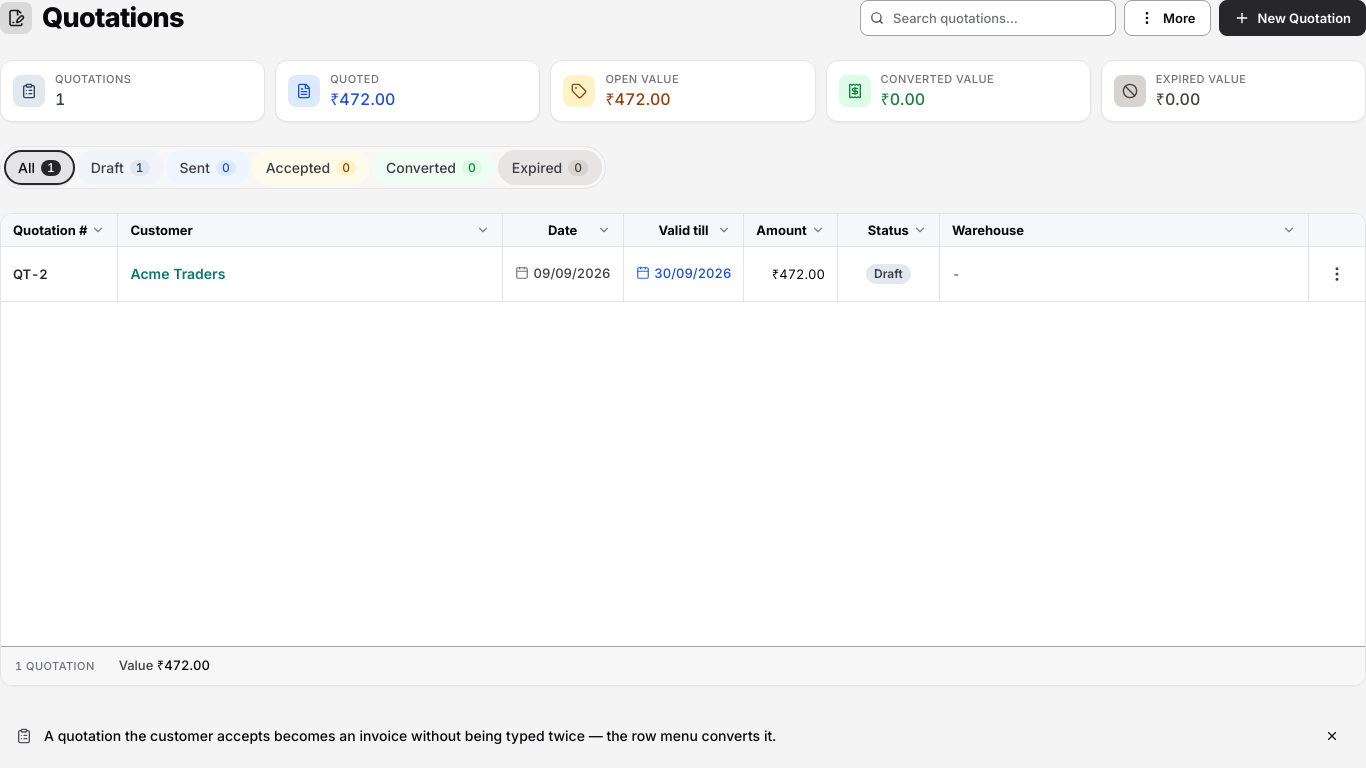
Test: printing a quotation › puts the quotation on paper with the date its prices hold to
Click the button named "Quotation actions" at (1337, 274), box 1321,256 -> 1353,292
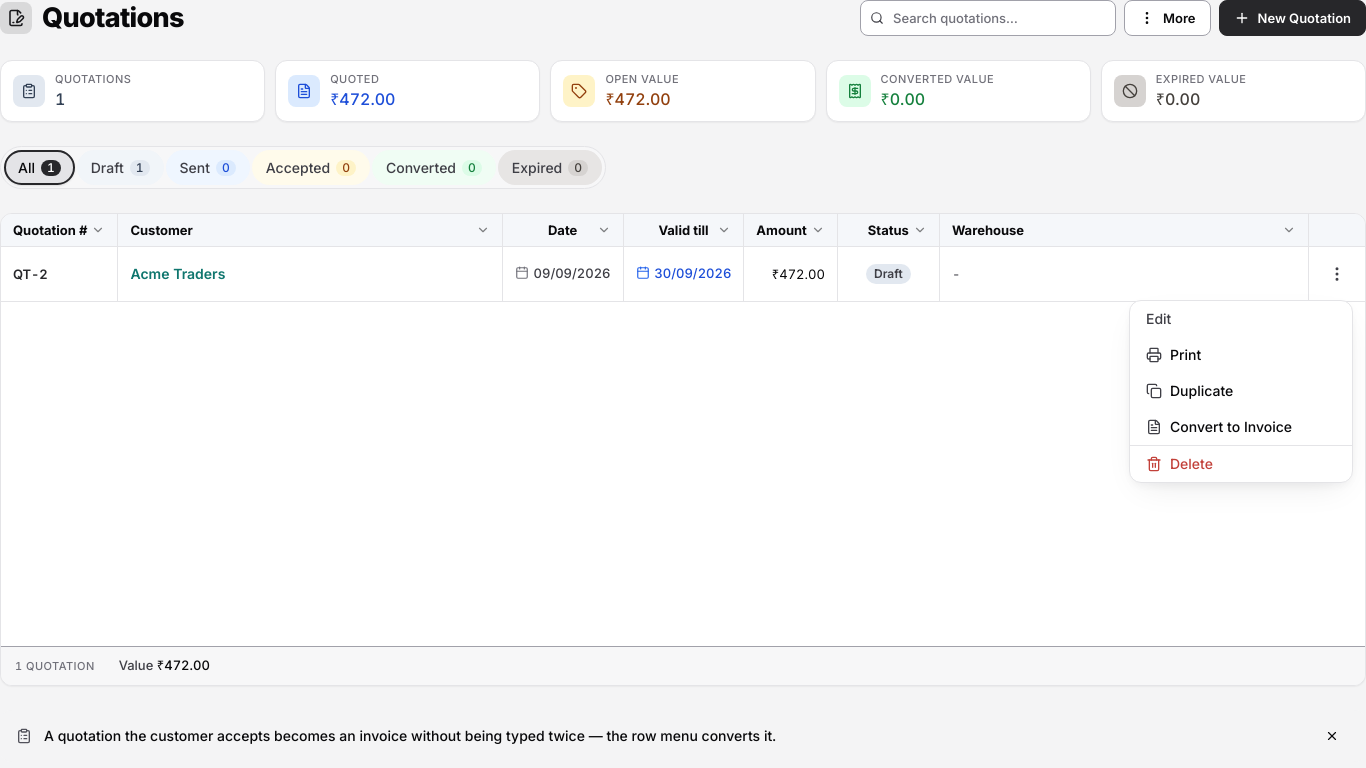
Click the button with aria-label "Print quotation QT-2" at (1241, 355), box 1130,337 -> 1352,373
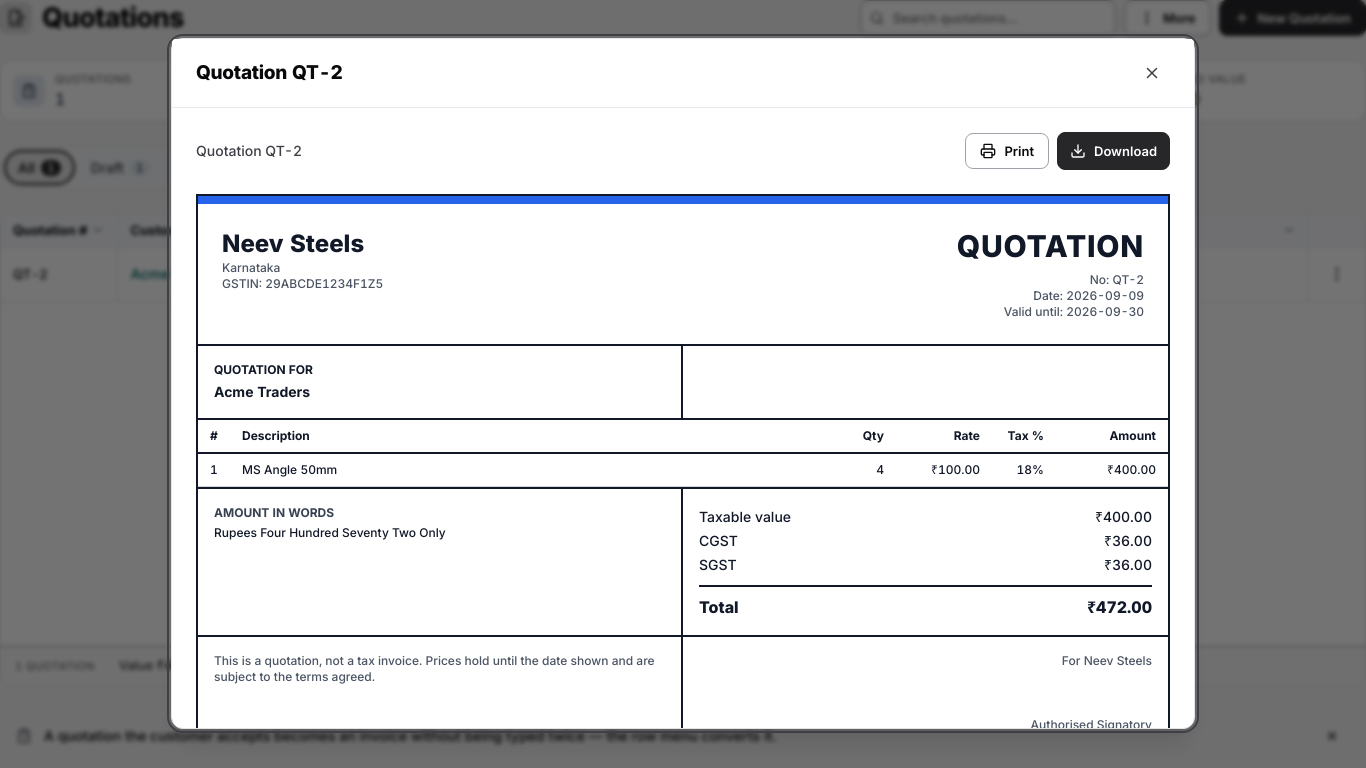
Expected: the element that starts with "Neev Steels" is shown, 196,194 -> 1170,729
Expected: the text "QUOTATION" is shown, 957,228 -> 1144,264
Expected: the text "No: QT-2" is shown, 1090,272 -> 1144,287
